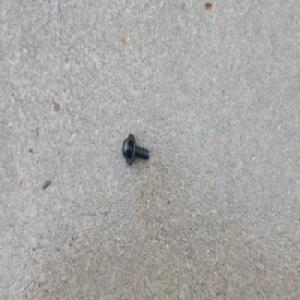BoltWasher: (121, 131, 149, 165)
